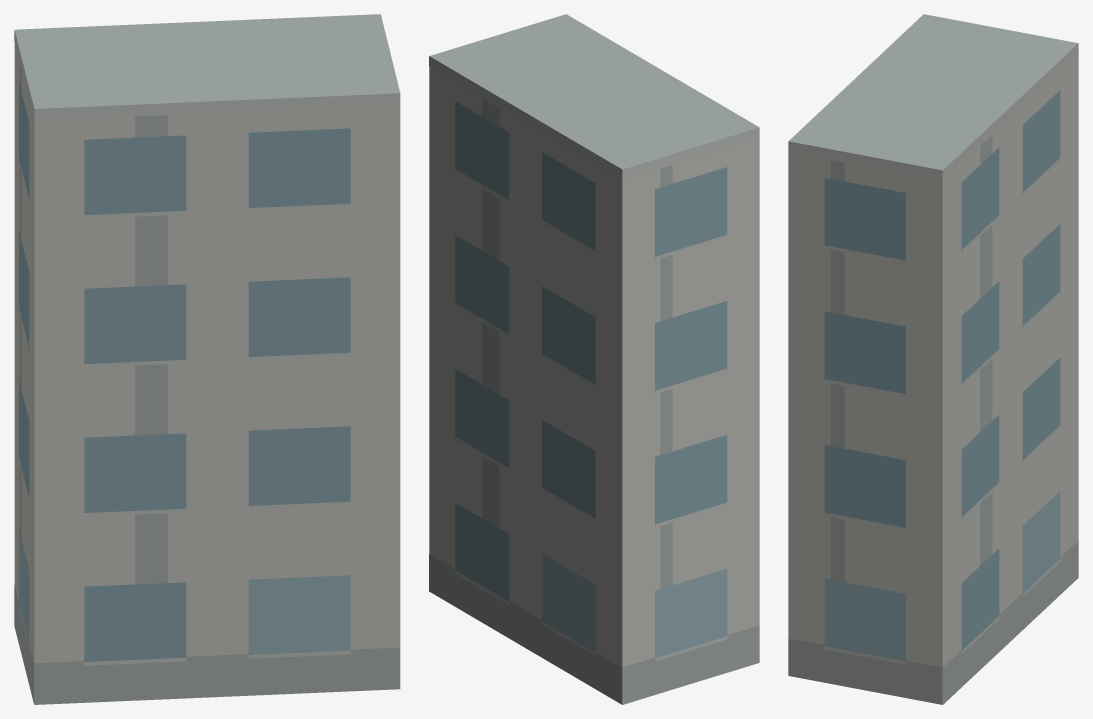
The model's file is survey-upis-32697720.glb.
3 views of the same model, side by side, from view 1: azimuth 30°, elevation 25°; view 2: azimuth 150°, elevation 25°; view 3: azimuth 270°, elevation 25° (orthographic). The views are drawn at different scales.
Visible parts, largest first — view 1: survey-upis-32697720.tmp; view 2: survey-upis-32697720.tmp; view 3: survey-upis-32697720.tmp.
Boxes of the visible parts, left/top/right/bottom form: survey-upis-32697720.tmp: left=14, top=14, right=400, bottom=704; survey-upis-32697720.tmp: left=429, top=14, right=759, bottom=704; survey-upis-32697720.tmp: left=788, top=14, right=1078, bottom=704.
Size of the model in its own units: 7.66 by 12.2 by 6.01.
